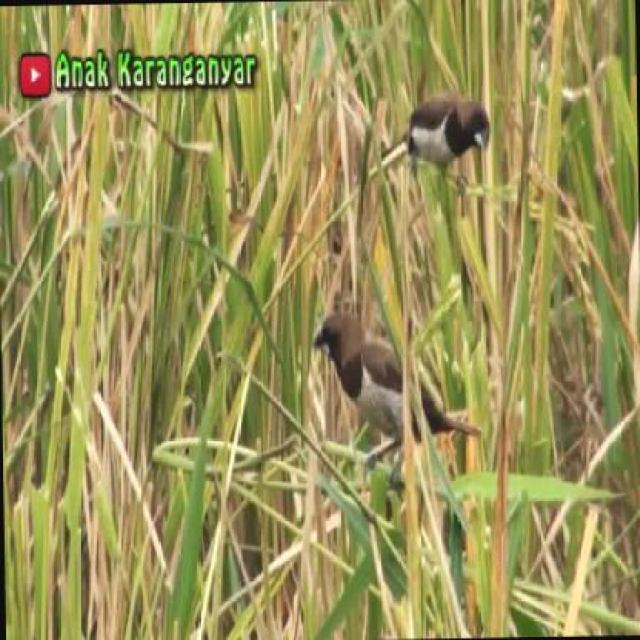Bird: (309, 307, 492, 491), (376, 78, 505, 199)
